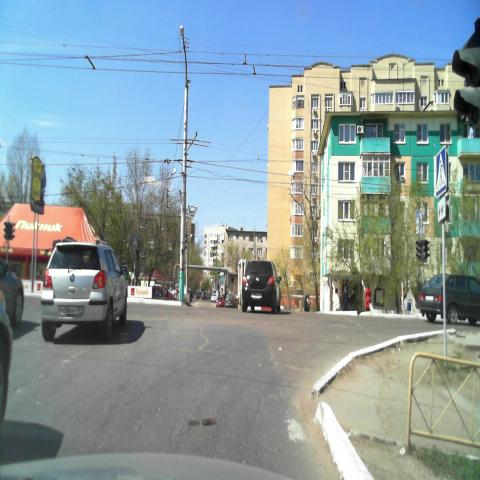8_15: (437, 197, 446, 221)
